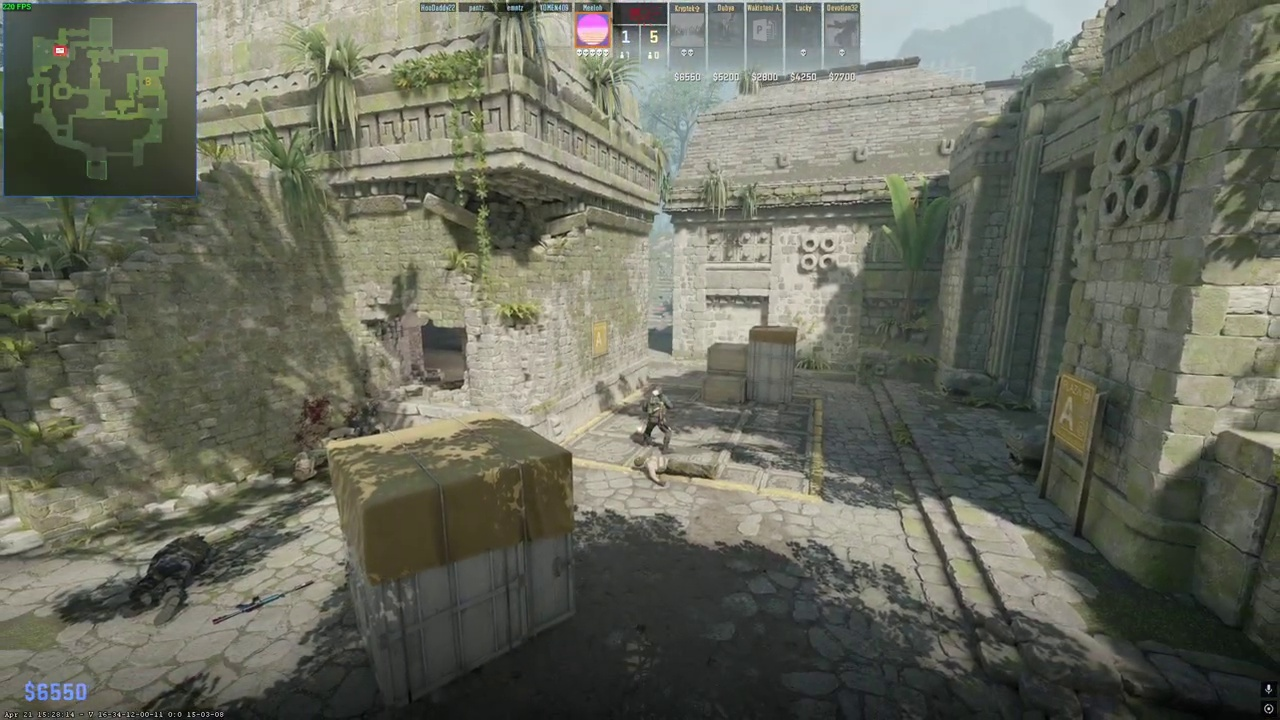CT: (642, 386, 672, 453)
